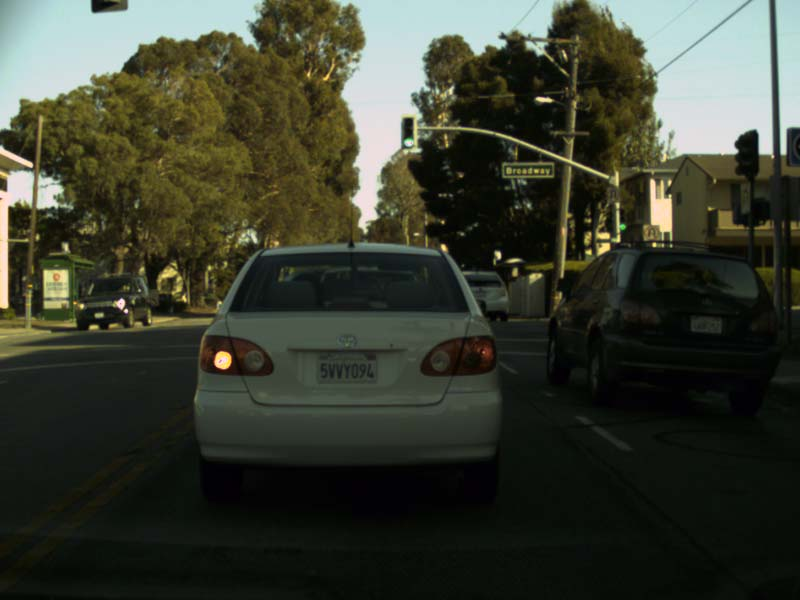Green: (402, 117, 414, 150), (619, 209, 625, 231)
